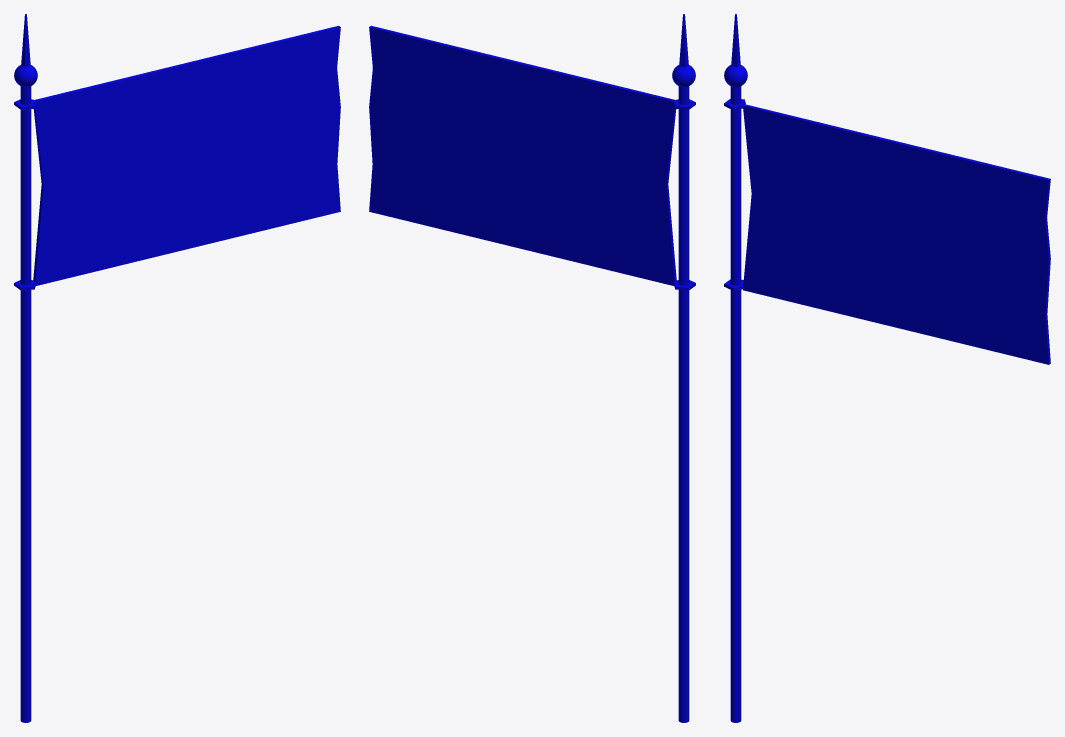
Rendered from flag.fbx.
The picture shows the model from 3 angles, left to right: view 1: azimuth 30°, elevation 25°; view 2: azimuth 150°, elevation 25°; view 3: azimuth 330°, elevation 25°; orthographic projection.
Parts seen in each view (by area): view 1: flag:polySurface1; view 2: flag:polySurface1; view 3: flag:polySurface1.
Boxes of the visible parts, bbox=[...] form: flag:polySurface1: bbox=[14, 14, 340, 722]; flag:polySurface1: bbox=[369, 14, 695, 722]; flag:polySurface1: bbox=[724, 14, 1050, 722].
Size of the model in its own units: 31.47 by 65.53 by 2.
